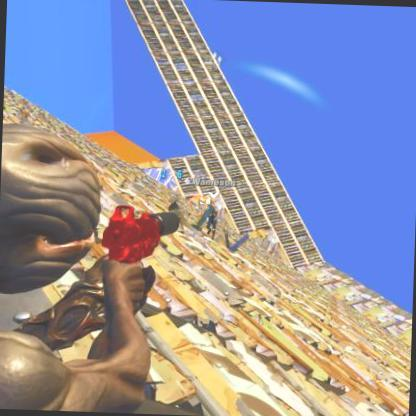Person: (204, 202, 220, 238)
